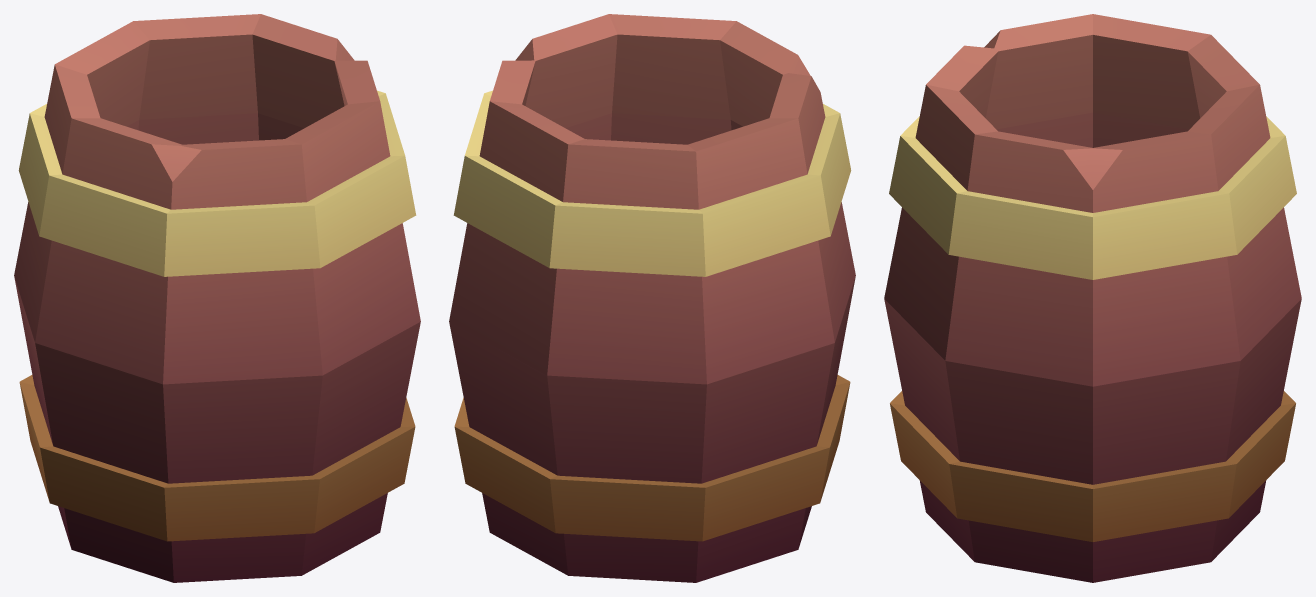
The model's file is BarrilAbierto2.fbx.
3 views of the same model, side by side, from view 1: azimuth 30°, elevation 25°; view 2: azimuth 150°, elevation 25°; view 3: azimuth 270°, elevation 25° (orthographic).
Parts seen in each view (by area): view 1: bar abierto.001; view 2: bar abierto.001; view 3: bar abierto.001.
Boxes of the visible parts, bbox=[...] form: bar abierto.001: bbox=[14, 14, 420, 582]; bar abierto.001: bbox=[449, 14, 855, 582]; bar abierto.001: bbox=[884, 14, 1301, 582].
Bounding box in the file's own units: 268 × 303 × 268.
